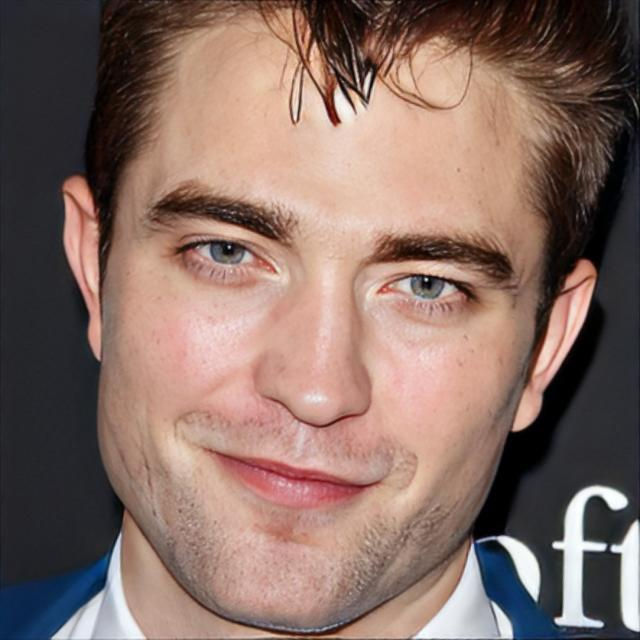content: (95, 23, 551, 633)
